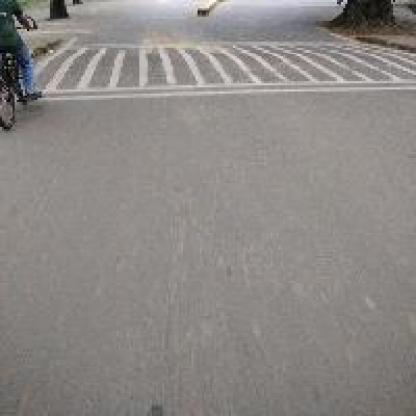Speed Bump: (42, 35, 414, 104)
